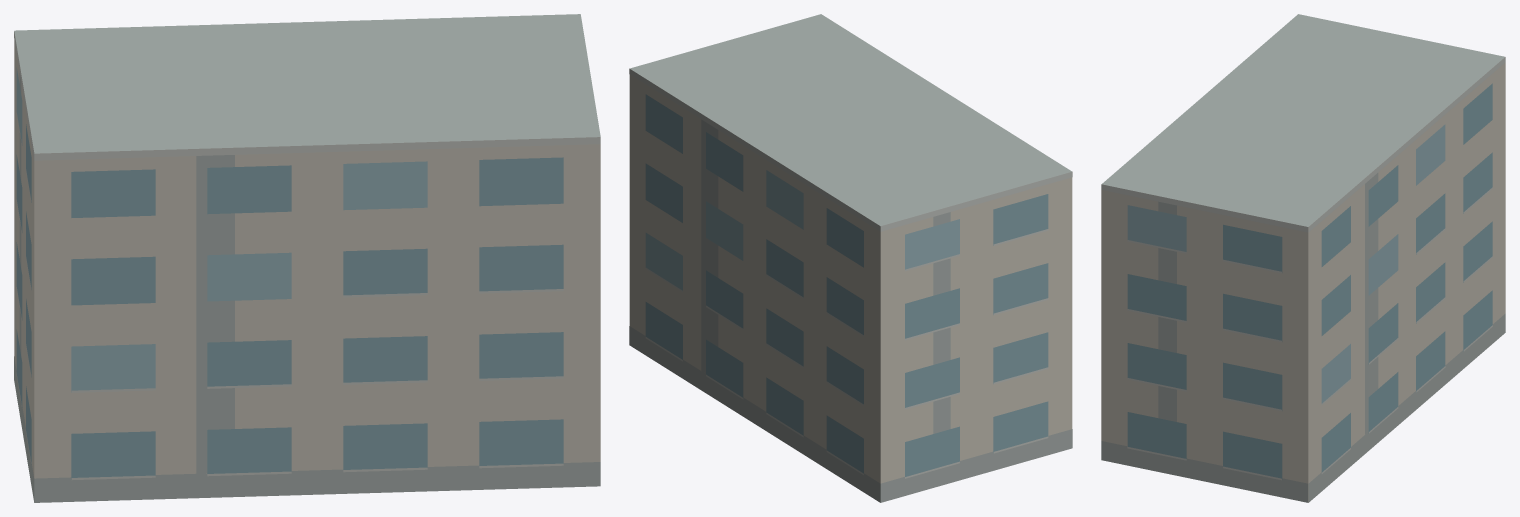
File: residential-f366a26c-3257-4d39-9aa0-54823ba750ed.glb
The picture shows the model from 3 angles, left to right: view 1: azimuth 30°, elevation 25°; view 2: azimuth 150°, elevation 25°; view 3: azimuth 270°, elevation 25°; orthographic projection. The views are drawn at different scales.
Parts seen in each view (by area): view 1: residential-f366a26c-3257-4d39-9aa0-54823ba750ed.tmp; view 2: residential-f366a26c-3257-4d39-9aa0-54823ba750ed.tmp; view 3: residential-f366a26c-3257-4d39-9aa0-54823ba750ed.tmp.
Part boxes in pixels (bbox=[...]): residential-f366a26c-3257-4d39-9aa0-54823ba750ed.tmp: bbox=[14, 14, 600, 502]; residential-f366a26c-3257-4d39-9aa0-54823ba750ed.tmp: bbox=[629, 14, 1072, 502]; residential-f366a26c-3257-4d39-9aa0-54823ba750ed.tmp: bbox=[1101, 14, 1505, 502].
Size of the model in its own units: 19.89 by 12 by 15.94.
